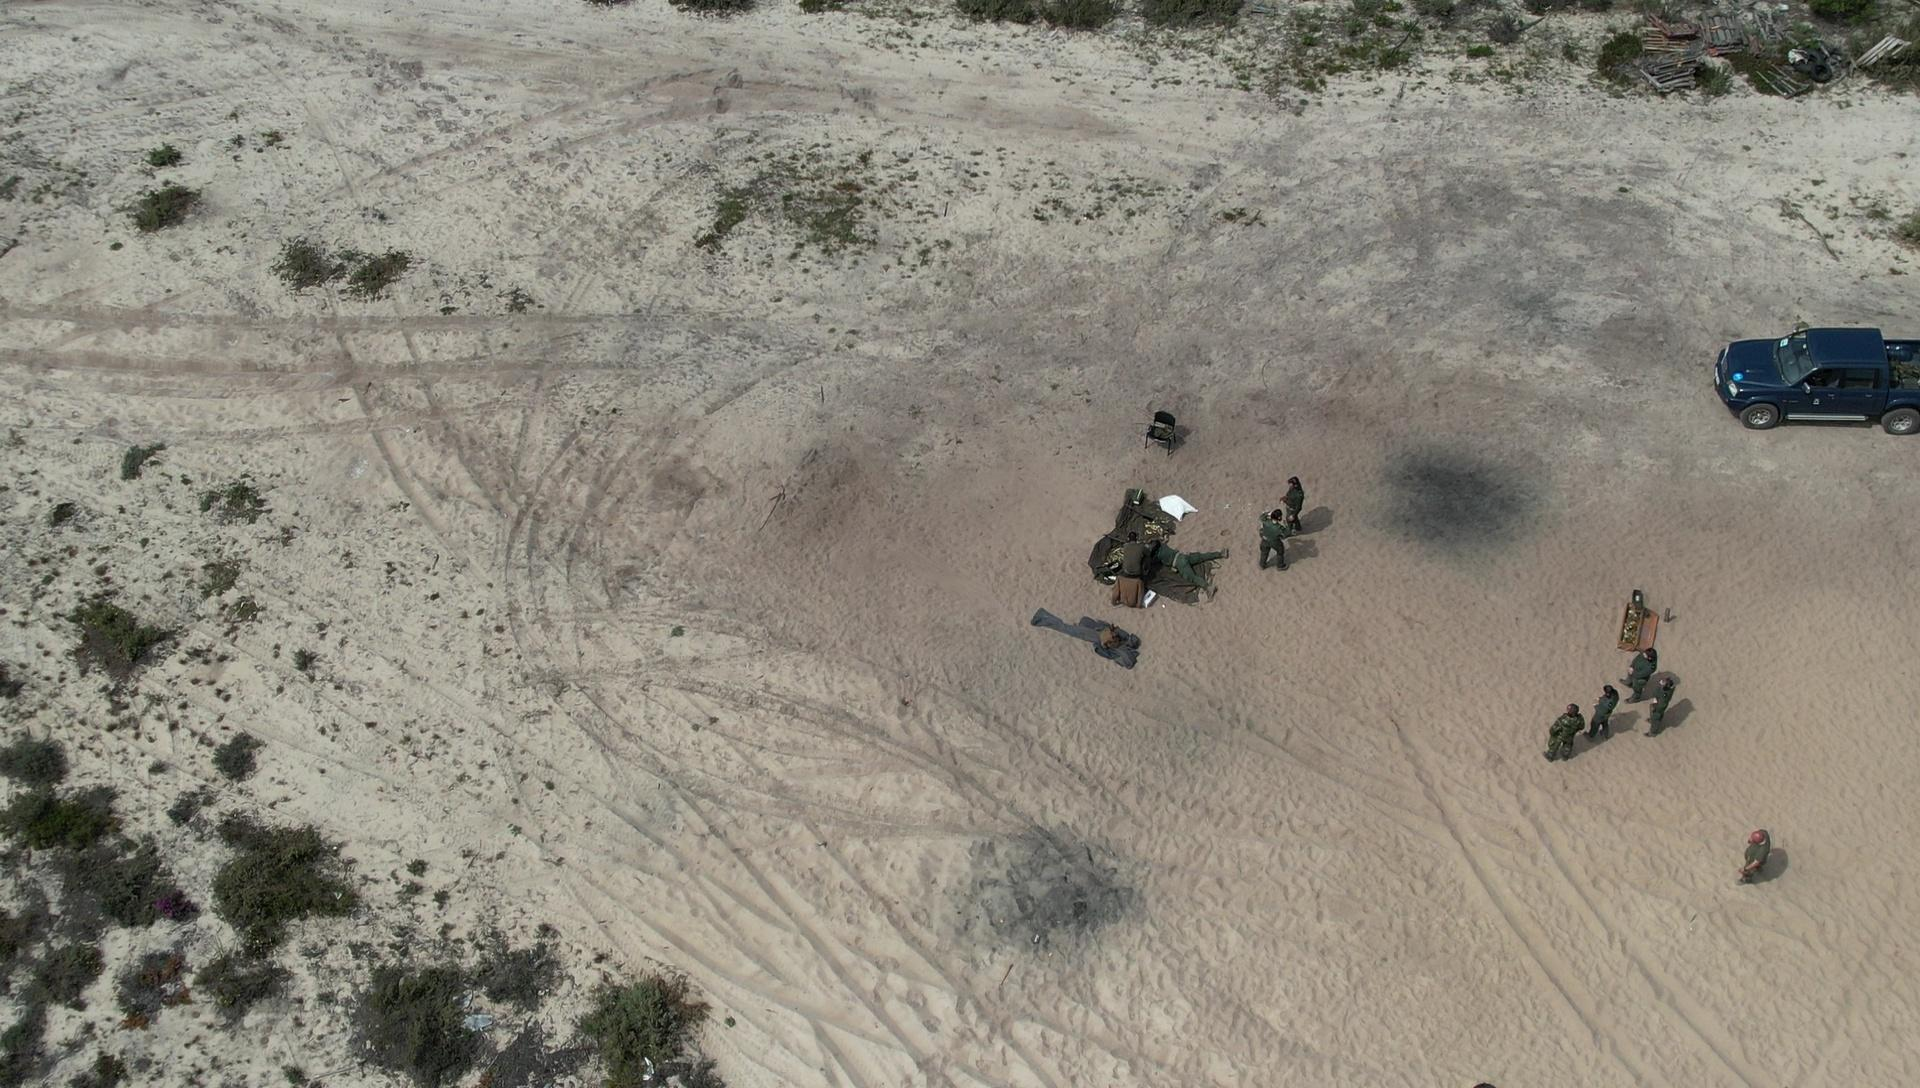Soldier: (1731, 818, 1804, 917), (1137, 533, 1226, 601), (1627, 651, 1679, 746), (1122, 529, 1174, 600), (1545, 702, 1597, 768), (1582, 675, 1625, 754), (1275, 477, 1315, 560), (1255, 516, 1300, 574), (1627, 644, 1659, 694)
